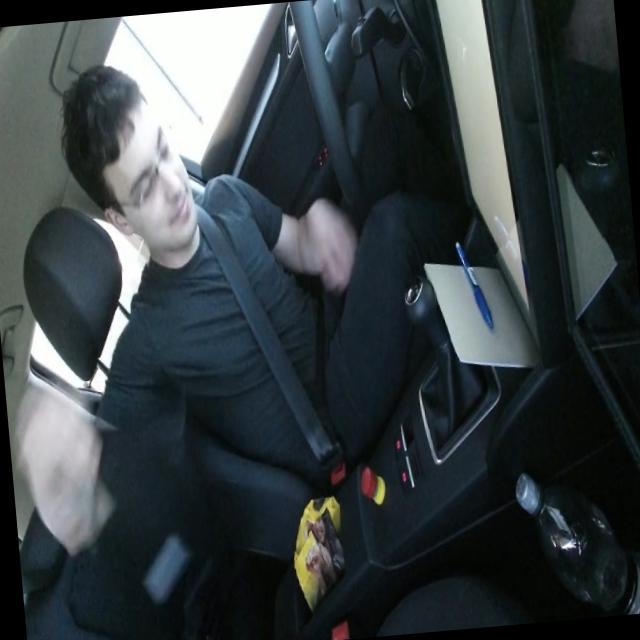pen: (453, 235, 494, 332)
